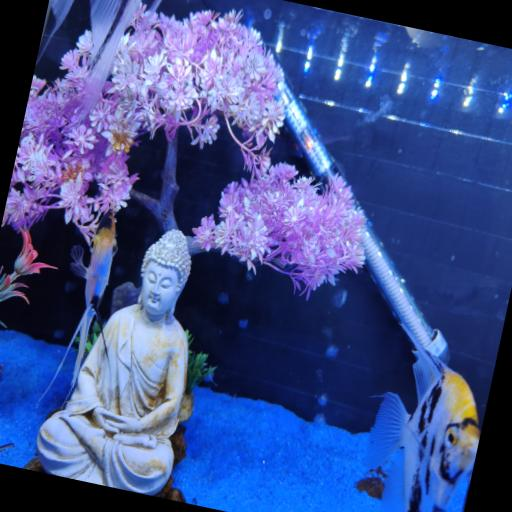Fish: (363, 328, 480, 511), (39, 209, 116, 400), (81, 0, 140, 118)
